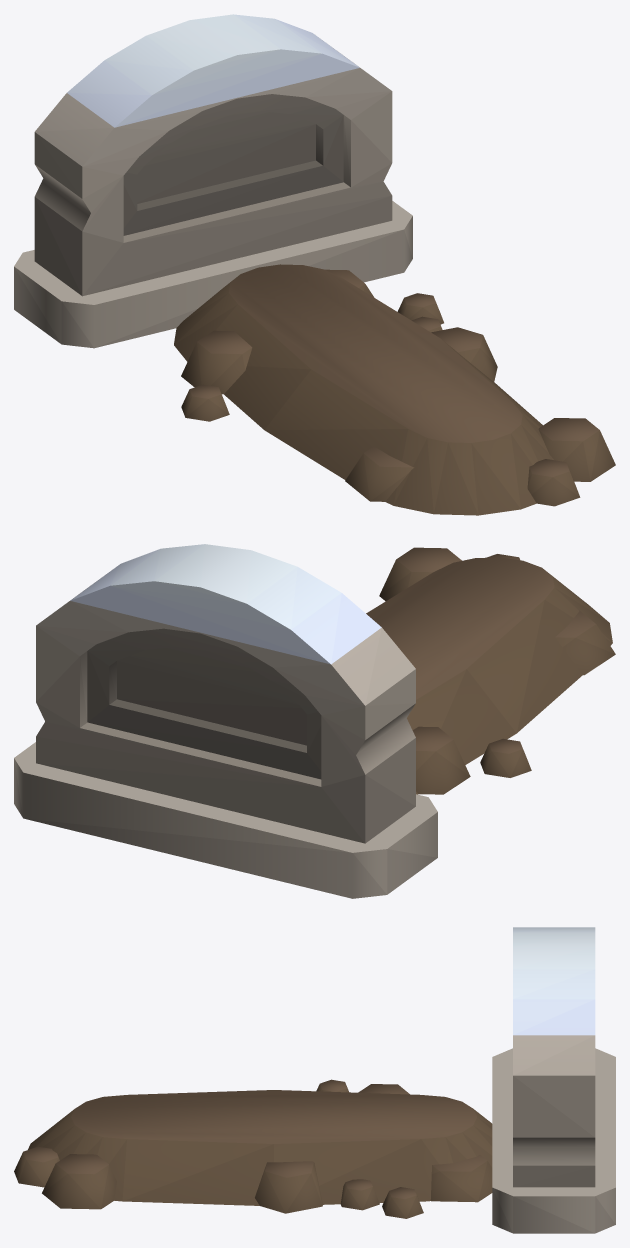
File: kenney_graveyard_grave_gravestone_wide.glb
3 renders of one model, top to bottom at view 1: azimuth 30°, elevation 25°; view 2: azimuth 150°, elevation 25°; view 3: azimuth 270°, elevation 25°, orthographic. The views are drawn at different scales.
Parts seen in each view (by area): view 1: stone (×2), cloth; view 2: stone (×2), cloth; view 3: stone (×2), cloth.
Part boxes in pixels (left/top/right/bottom): stone (×2): left=14, top=48, right=615, bottom=515; cloth: left=67, top=14, right=359, bottom=127; stone (×2): left=14, top=547, right=615, bottom=898; cloth: left=70, top=544, right=381, bottom=664; stone (×2): left=14, top=1035, right=615, bottom=1233; cloth: left=513, top=927, right=595, bottom=1035.
Bounding box in the file's own units: 0.85 × 0.5704 × 1.46.
